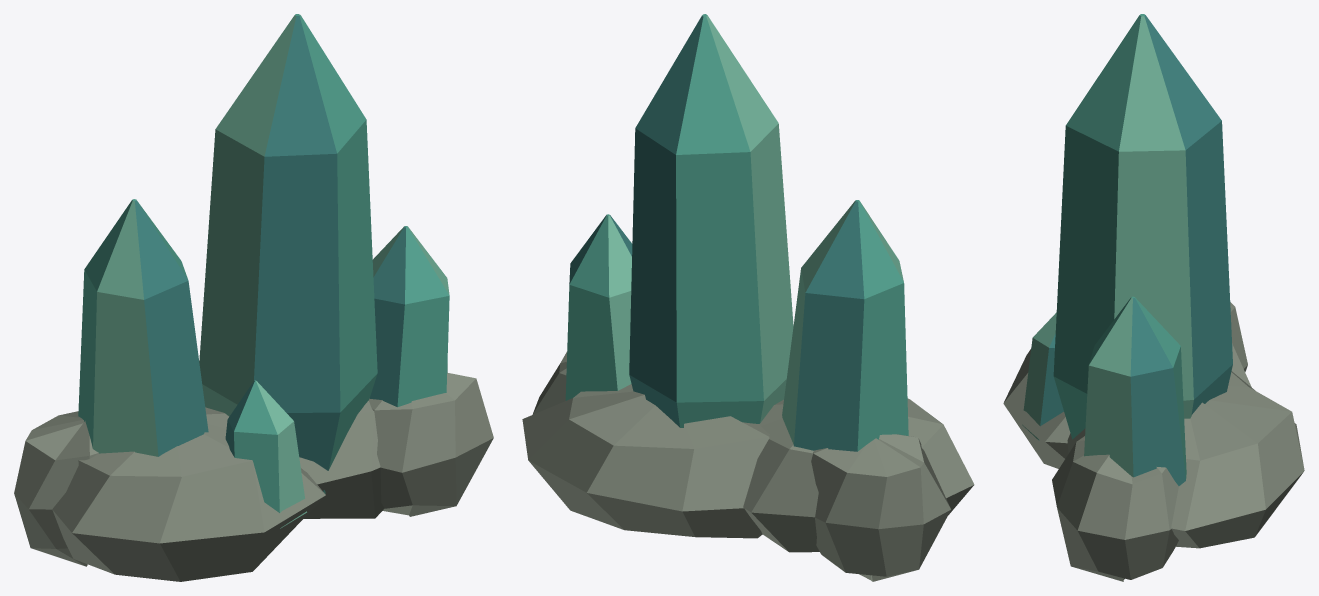
Rendered from crystal0.glb.
The picture shows the model from 3 angles, left to right: view 1: azimuth 30°, elevation 25°; view 2: azimuth 150°, elevation 25°; view 3: azimuth 270°, elevation 25°; orthographic projection. The views are drawn at different scales.
Parts seen in each view (by area): view 1: crystal0; view 2: crystal0; view 3: crystal0.
Part boxes in pixels (bbox=[...]): crystal0: bbox=[14, 14, 493, 581]; crystal0: bbox=[522, 14, 974, 581]; crystal0: bbox=[1003, 14, 1304, 581].
Bounding box in the file's own units: 1.42 × 1.61 × 0.8497.
